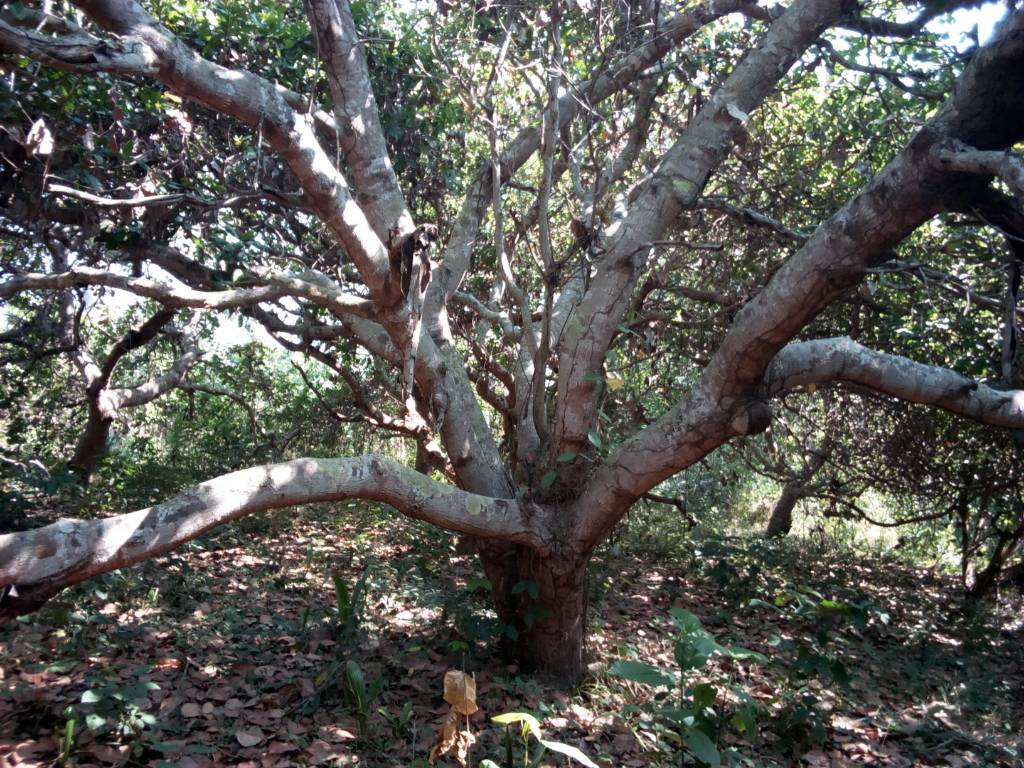Termites: (729, 286, 832, 420), (380, 220, 444, 421), (540, 541, 588, 677)
